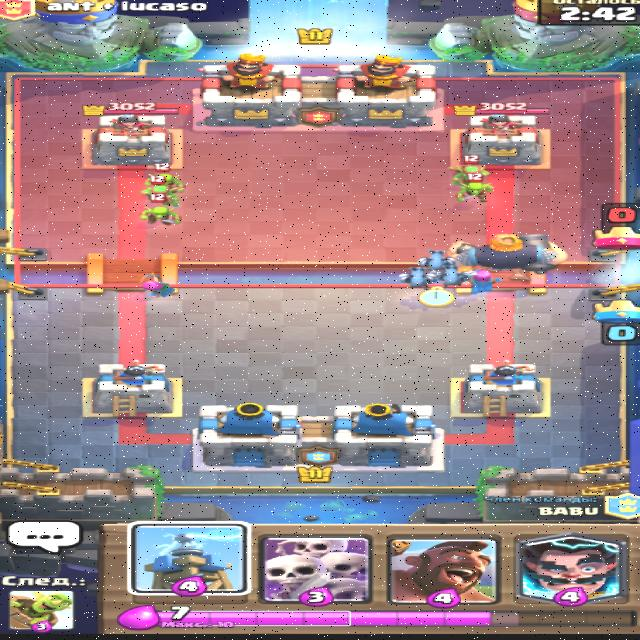Enemy-Goblin: (137, 193, 182, 226), (138, 175, 178, 211), (451, 172, 493, 203)
Enemy-SpearGoblin: (447, 154, 489, 186), (141, 162, 183, 188)
Player-Archer: (135, 271, 175, 299), (467, 267, 499, 294)
Player-Minion: (398, 265, 436, 290), (416, 248, 455, 268), (434, 265, 468, 287)
Player-RoyalGiant: (444, 233, 567, 281)
